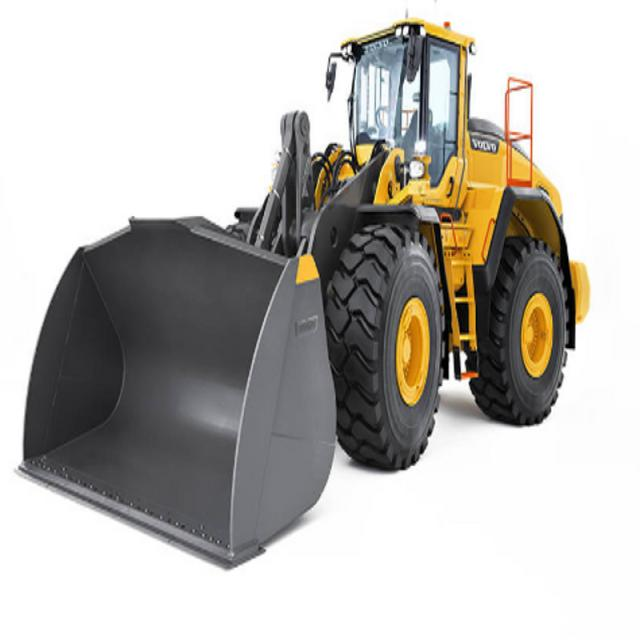bull_dozer/loader/grader: (20, 30, 586, 551)
